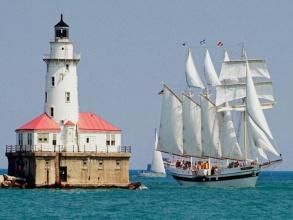fanchuan: (160, 43, 285, 186)
